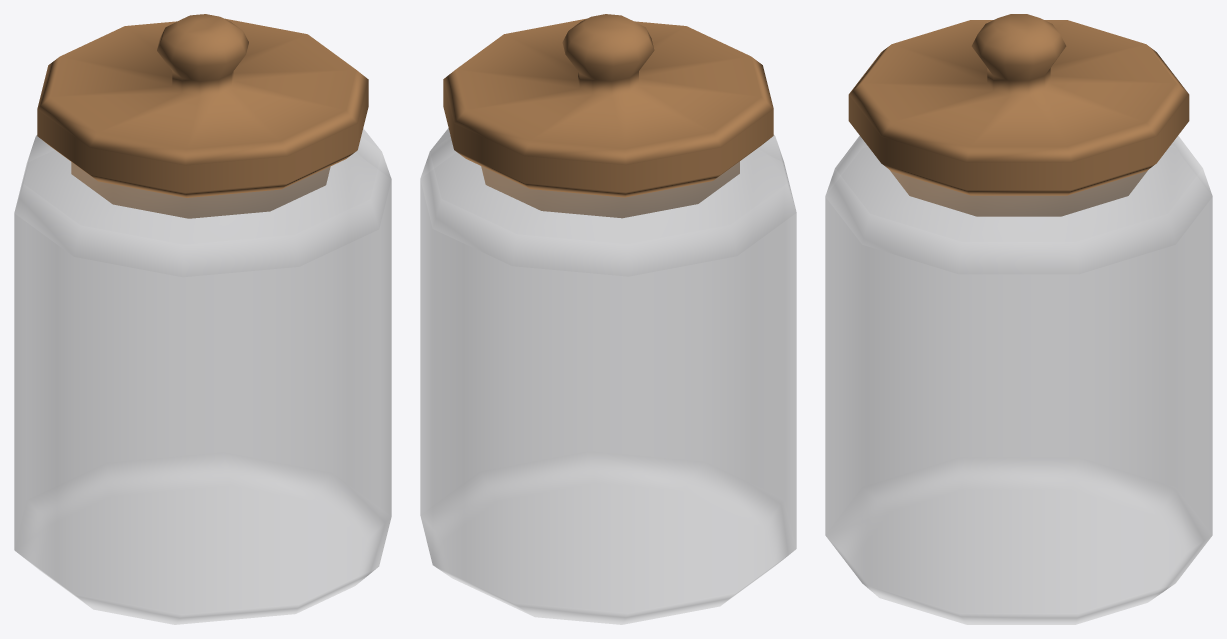
The model's file is SM_CozyShops_Jar_Medium.fbx.
The picture shows the model from 3 angles, left to right: view 1: azimuth 30°, elevation 25°; view 2: azimuth 150°, elevation 25°; view 3: azimuth 270°, elevation 25°; orthographic projection.
Parts seen in each view (by area): view 1: SM_CozyShops_Jar_Medium_Body, SM_CozyShops_Jar_Medium_Lid; view 2: SM_CozyShops_Jar_Medium_Body, SM_CozyShops_Jar_Medium_Lid; view 3: SM_CozyShops_Jar_Medium_Body, SM_CozyShops_Jar_Medium_Lid.
Boxes of the visible parts, bbox=[...] form: SM_CozyShops_Jar_Medium_Body: bbox=[14, 128, 391, 624]; SM_CozyShops_Jar_Medium_Lid: bbox=[37, 14, 368, 218]; SM_CozyShops_Jar_Medium_Body: bbox=[420, 128, 796, 624]; SM_CozyShops_Jar_Medium_Lid: bbox=[443, 14, 773, 218]; SM_CozyShops_Jar_Medium_Body: bbox=[825, 136, 1212, 624]; SM_CozyShops_Jar_Medium_Lid: bbox=[848, 14, 1189, 216].
Size of the model in its own units: 0.0904 by 0.1442 by 0.095.
